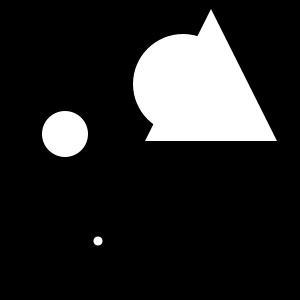rectangle: (133, 34, 233, 134), (42, 111, 88, 157), (94, 236, 102, 246)
triangle: (145, 9, 277, 141)
